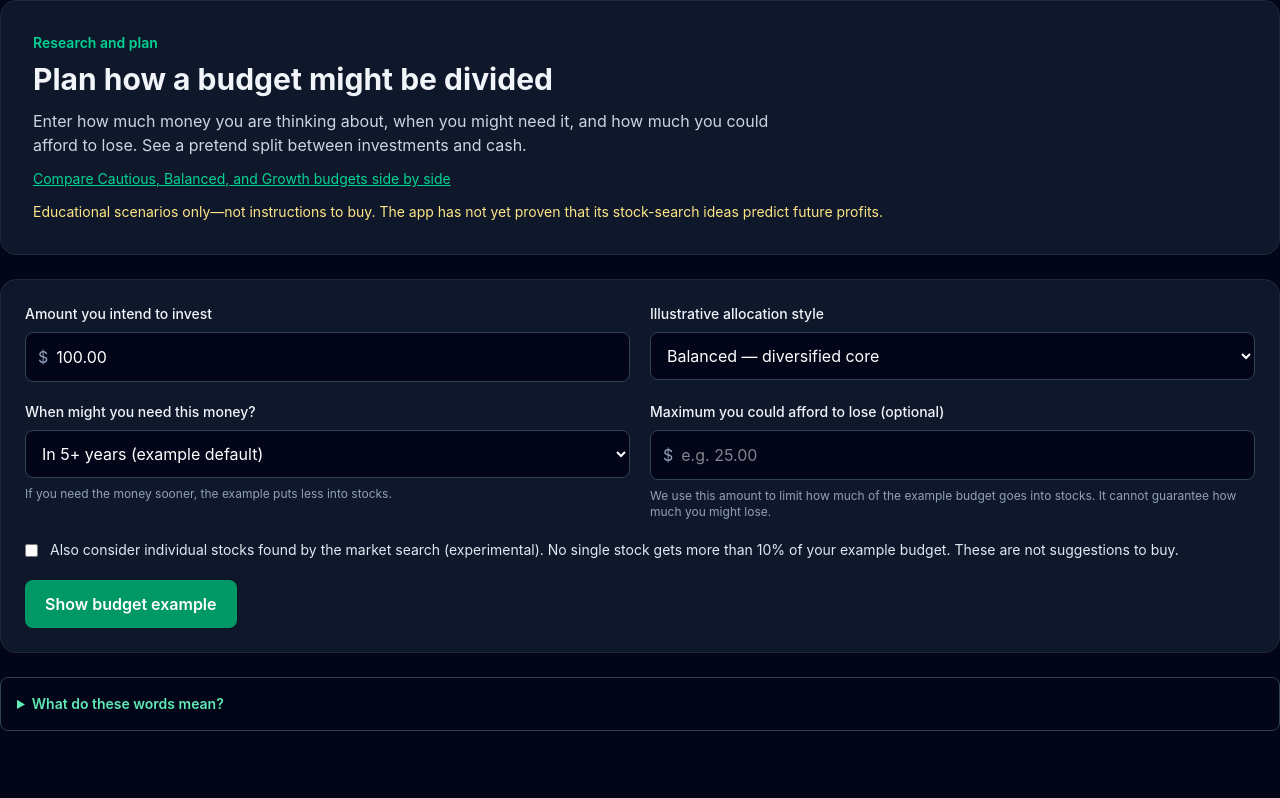
Scenario: BudgetPlannerPage › posts the budget and selected style with experimental picks off by default
Click the button "Show budget example" at (131, 604), box [25,580,236,628]
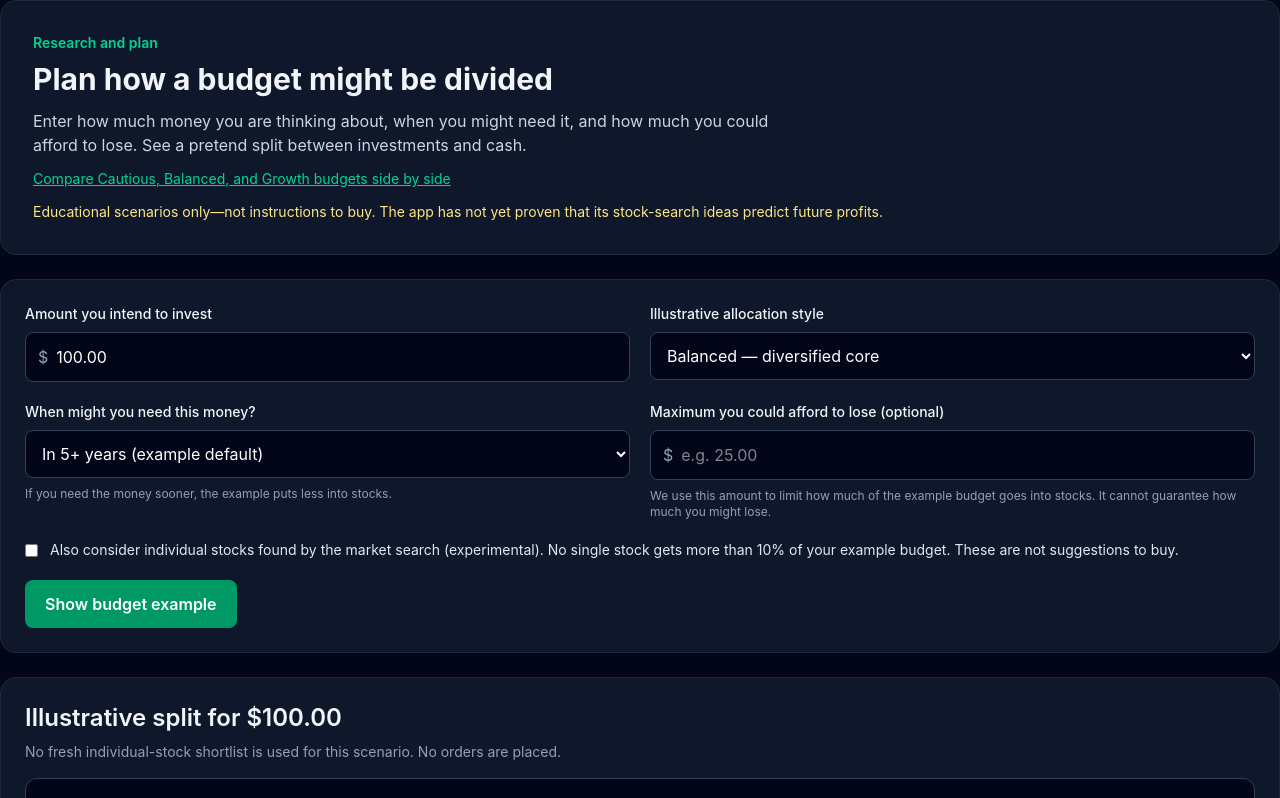
Now the text "No fresh individual-stock shortlist" is shown, box [25,743,418,760]
